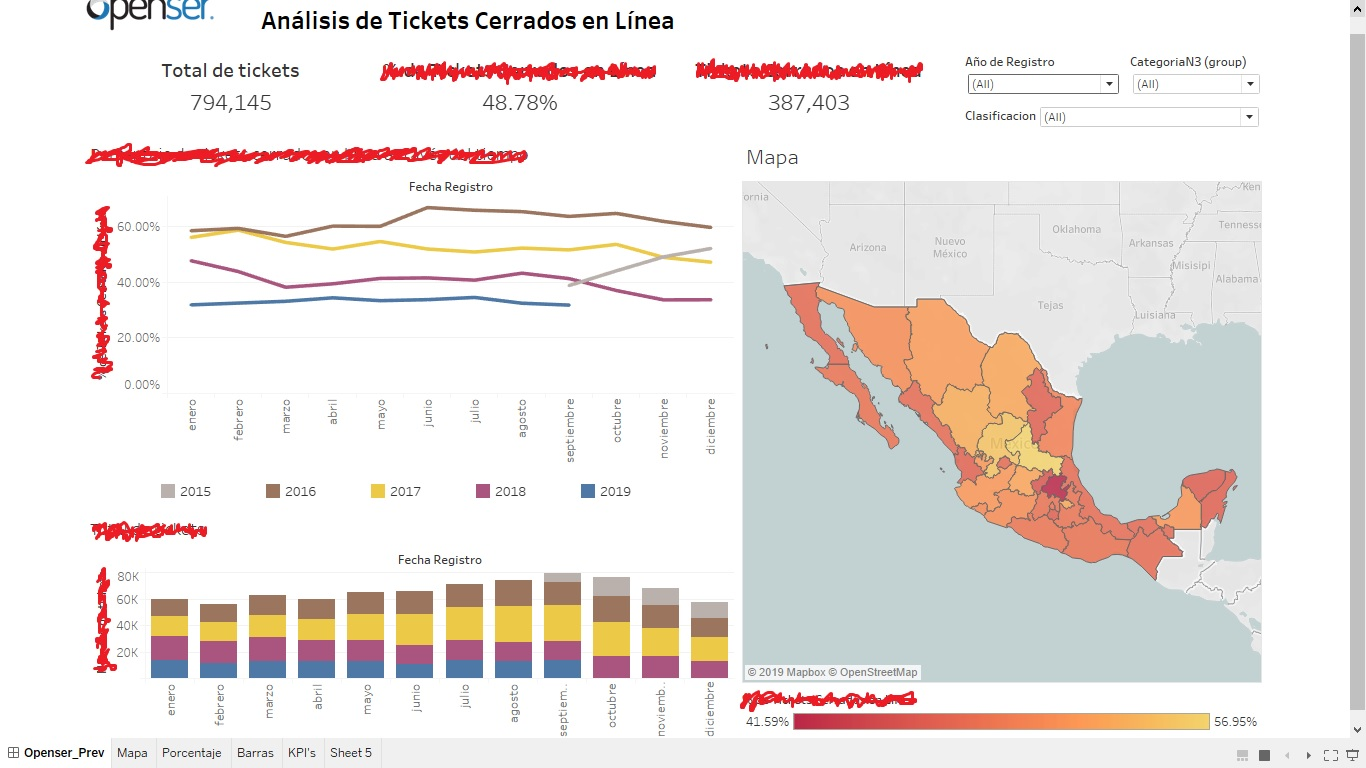

What the dashboard file says about the page in this screenshot:
{"tool":"tableau","page":{"name":"Openser_Prev","canvas":[1200,768],"ordinal":0},"visuals":[{"type":"image","param":"C:/Users/Ulises Cabrera/Pictures/openser.png","box":[8,8,135.9,59]},{"type":"text","box":[143.9,8,1048.1,59]},{"type":"worksheet","title":"KPI's","mark":"Automatic","box":[8,67,879,85]},{"type":"filter","title":"Porcentaje","param":"[federated.1qkv05z0mlb9271gpbjtc1ddp9gd].[yr:FechaRegistro:ok]","box":[887,67,164.5,52]},{"type":"filter","title":"Porcentaje","param":"[federated.1qkv05z0mlb9271gpbjtc1ddp9gd].[CategoriaN3 (group)]","box":[1051.5,67,140.5,52]},{"type":"filter","title":"Porcentaje","param":"[federated.1qkv05z0mlb9271gpbjtc1ddp9gd].[none:Clasificacion:nk]","box":[887,119,305,33]},{"type":"worksheet","title":"Porcentaje","mark":"Automatic","rows":["Calculation_754352975661318150"],"cols":["FechaRegistro"],"box":[8,152,656,343]},{"type":"worksheet","title":"Mapa","mark":"Automatic","box":[664,152,528,553]},{"type":"legend","title":"Porcentaje","param":"[federated.1qkv05z0mlb9271gpbjtc1ddp9gd].[yr:FechaRegistro:ok]","box":[8,495,656,32]},{"type":"worksheet","title":"Barras","mark":"Bar","rows":["Number of Records"],"cols":["FechaRegistro"],"box":[8,527,656,233]},{"type":"legend","title":"Mapa","param":"[federated.1qkv05z0mlb9271gpbjtc1ddp9gd].[usr:Calculation_754352975661318150:qk]","box":[664,705,528,55]}]}

Visuals, with their boxes in screenshot pixels (x1, y1, x2, y2):
image: 93,11,227,70
text: 227,11,1261,70
"KPI's" worksheet: 93,70,961,154
"Porcentaje" filter: 961,70,1123,121
"Porcentaje" filter: 1123,70,1261,121
"Porcentaje" filter: 961,121,1261,154
"Porcentaje" worksheet: 93,154,741,492
"Mapa" worksheet: 741,154,1261,699
"Porcentaje" legend: 93,492,741,524
"Barras" worksheet (Bar marks): 93,524,741,753
"Mapa" legend: 741,699,1261,753
